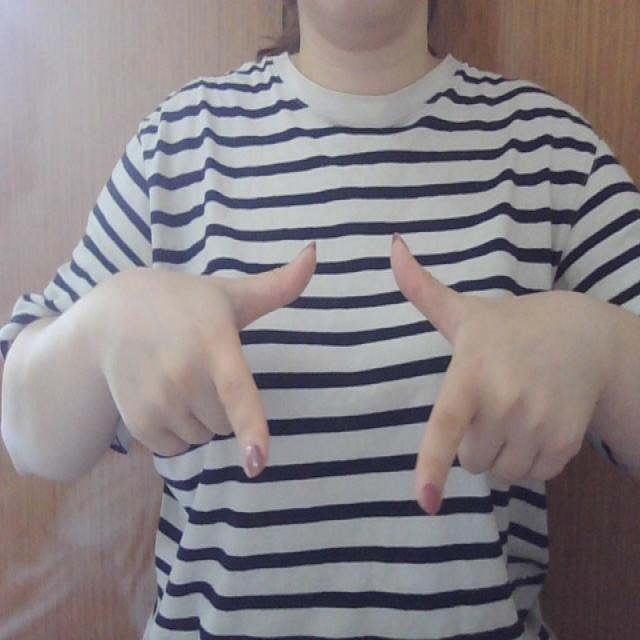Nerede: (196, 233, 501, 528)
